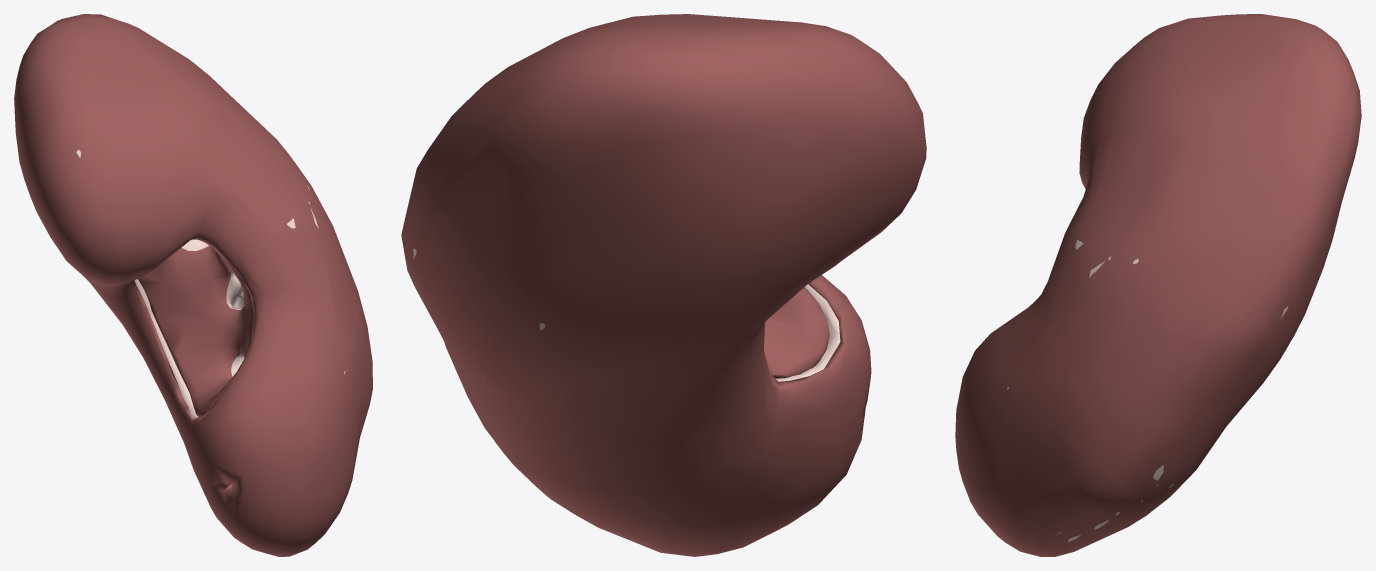
File: vh_m_kidney_l.glb
The picture shows the model from 3 angles, left to right: view 1: azimuth 30°, elevation 25°; view 2: azimuth 150°, elevation 25°; view 3: azimuth 270°, elevation 25°; orthographic projection. The views are drawn at different scales.
Visible parts, largest first — view 1: VH_M_kidney_capsule_L, VH_M_hilum_of_kidney_L, VH_M_outer_cortex_of_kidney_L, VH_M_renal_column_L; view 2: VH_M_kidney_capsule_L, VH_M_hilum_of_kidney_L, VH_M_outer_cortex_of_kidney_L; view 3: VH_M_kidney_capsule_L.
Part boxes in pixels (x1,y1,x2,y2): VH_M_kidney_capsule_L: (14, 14, 372, 556); VH_M_hilum_of_kidney_L: (138, 239, 254, 416); VH_M_outer_cortex_of_kidney_L: (76, 150, 345, 418); VH_M_renal_column_L: (181, 239, 244, 376); VH_M_kidney_capsule_L: (401, 14, 926, 556); VH_M_hilum_of_kidney_L: (764, 287, 829, 378); VH_M_outer_cortex_of_kidney_L: (413, 248, 840, 533); VH_M_kidney_capsule_L: (955, 14, 1361, 556).
Size of the model in its own units: 0.0759 by 0.1066 by 0.0824.
